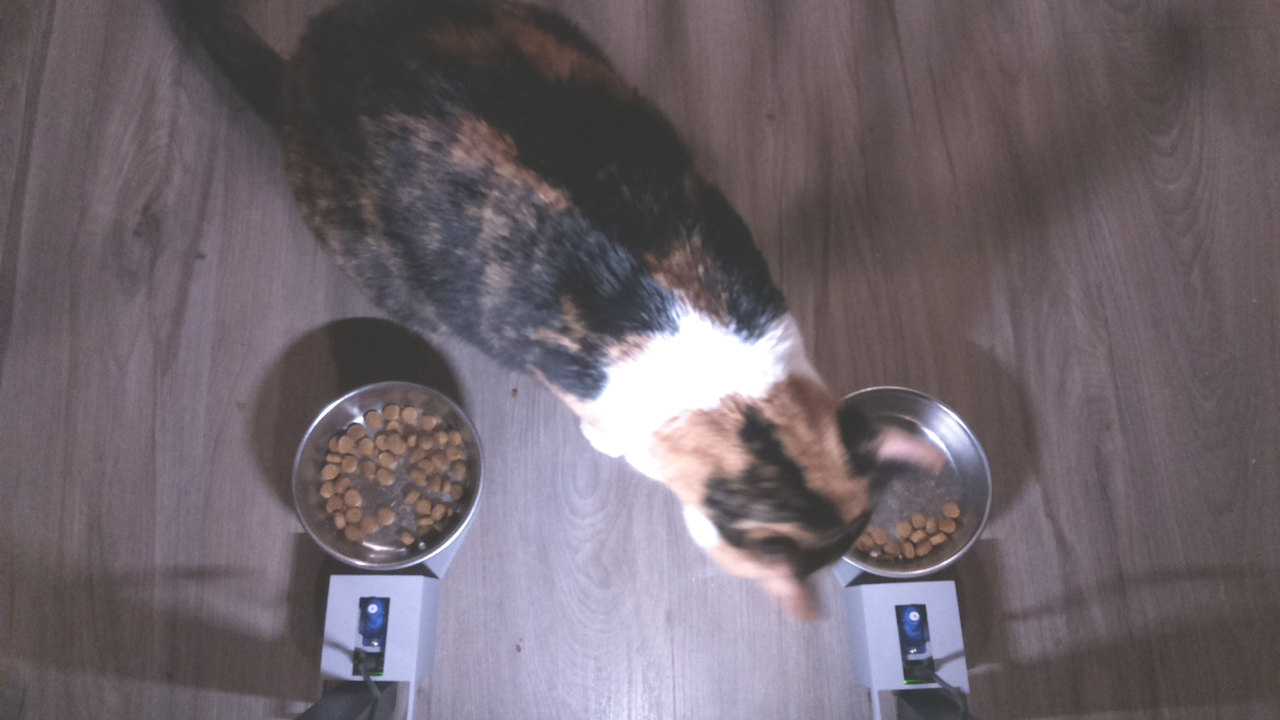bella: (601, 308, 872, 627)
open_bowl: (284, 376, 489, 573), (835, 379, 995, 578)
